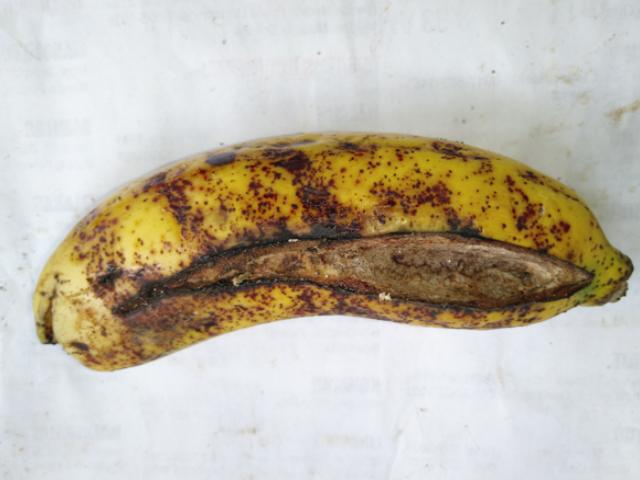rotten: (125, 195, 603, 341)
